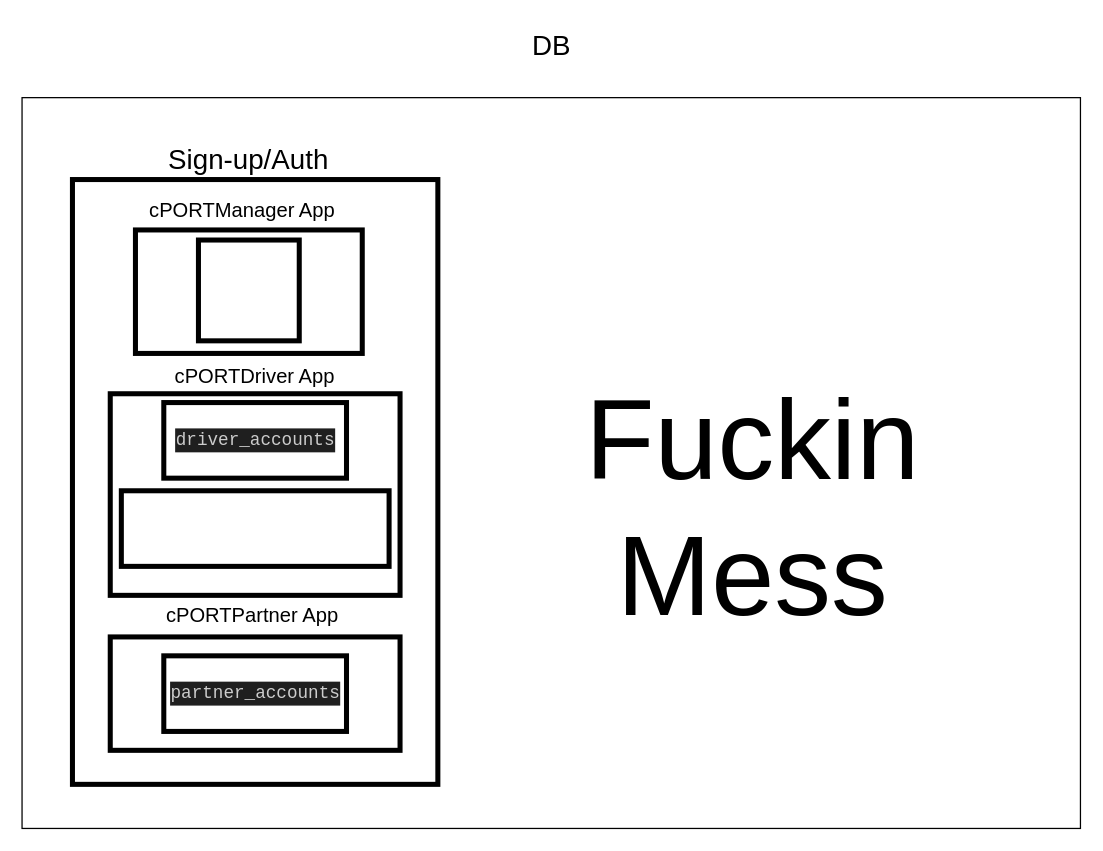
This 1103x851 diagram has some shape labels left out. The shapes that lost their labels are listed below. From the top down, each one's centre as x and y in pixels, then its label:
At point 248,290: "users".
At point 254,528: "independent_driver_accounts".
